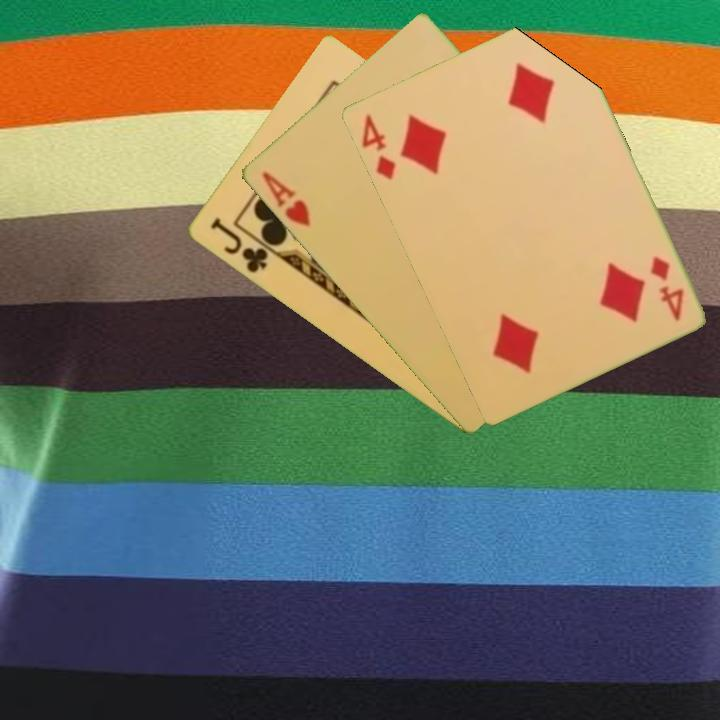4d: (357, 110, 398, 183), (646, 251, 686, 324)
Ah: (258, 168, 314, 230)
Jc: (206, 214, 271, 276)
